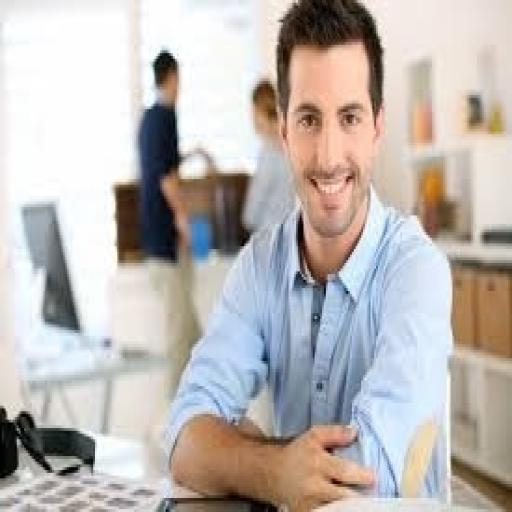sitting: (162, 0, 454, 509)
